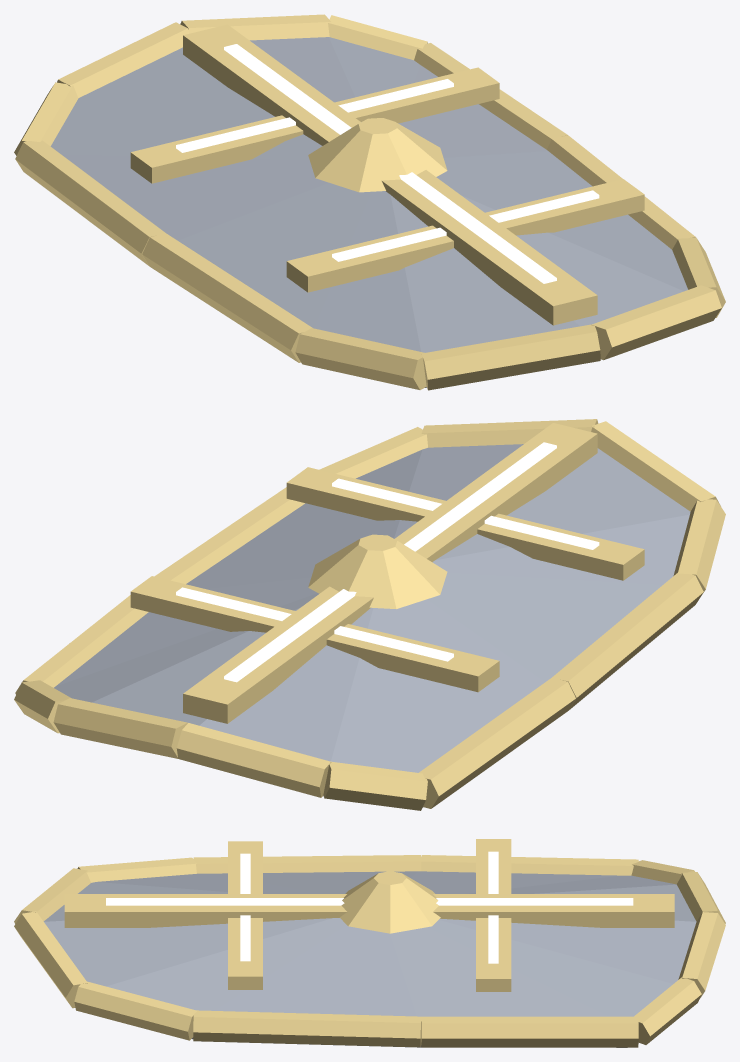
File: Guardian_TowerShield.fbx
3 renders of one model, top to bottom at view 1: azimuth 30°, elevation 25°; view 2: azimuth 150°, elevation 25°; view 3: azimuth 270°, elevation 25°, orthographic. The views are drawn at different scales.
Parts seen in each view (by area): view 1: GuardianShield_GoldBastion, GuardianShield_Body, GuardianShield_RuneDetail; view 2: GuardianShield_GoldBastion, GuardianShield_Body, GuardianShield_RuneDetail; view 3: GuardianShield_GoldBastion, GuardianShield_Body, GuardianShield_RuneDetail.
Boxes of the visible parts, <box> form: GuardianShield_GoldBastion: <box>14,14,725,390</box>; GuardianShield_Body: <box>50,37,688,387</box>; GuardianShield_RuneDetail: <box>176,44,599,283</box>; GuardianShield_GoldBastion: <box>14,419,725,810</box>; GuardianShield_Body: <box>54,444,690,807</box>; GuardianShield_RuneDetail: <box>176,442,599,682</box>; GuardianShield_GoldBastion: <box>14,839,725,1047</box>; GuardianShield_Body: <box>43,871,696,1047</box>; GuardianShield_RuneDetail: <box>106,851,633,963</box>.
Size of the model in its own units: 0.8 by 0.247 by 1.38.
